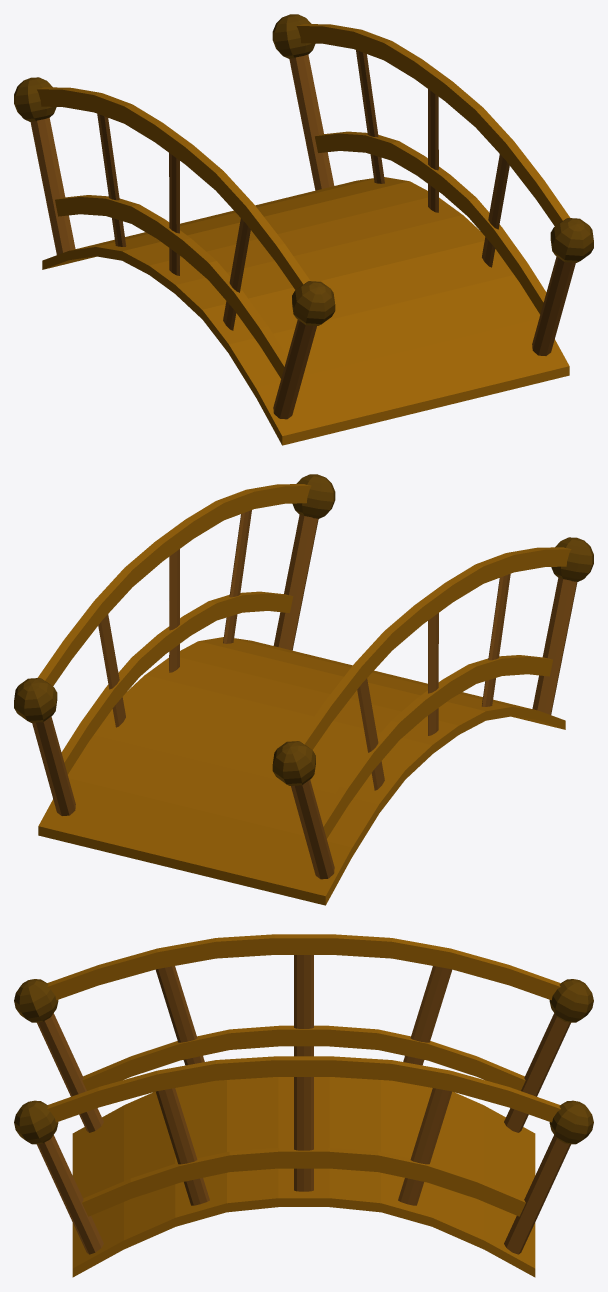
The model's file is BRidge.fbx.
3 views of the same model, one above another, from view 1: azimuth 30°, elevation 25°; view 2: azimuth 150°, elevation 25°; view 3: azimuth 270°, elevation 25° (orthographic). The views are drawn at different scales.
Visible parts, largest first — view 1: pSphere5; view 2: pSphere5; view 3: pSphere5.
Boxes of the visible parts, x1,y1,x2,y2 form: pSphere5: [14, 14, 593, 445]; pSphere5: [14, 474, 593, 905]; pSphere5: [14, 934, 593, 1277].
Size of the model in its own units: 3.35 by 2.36 by 5.85.
